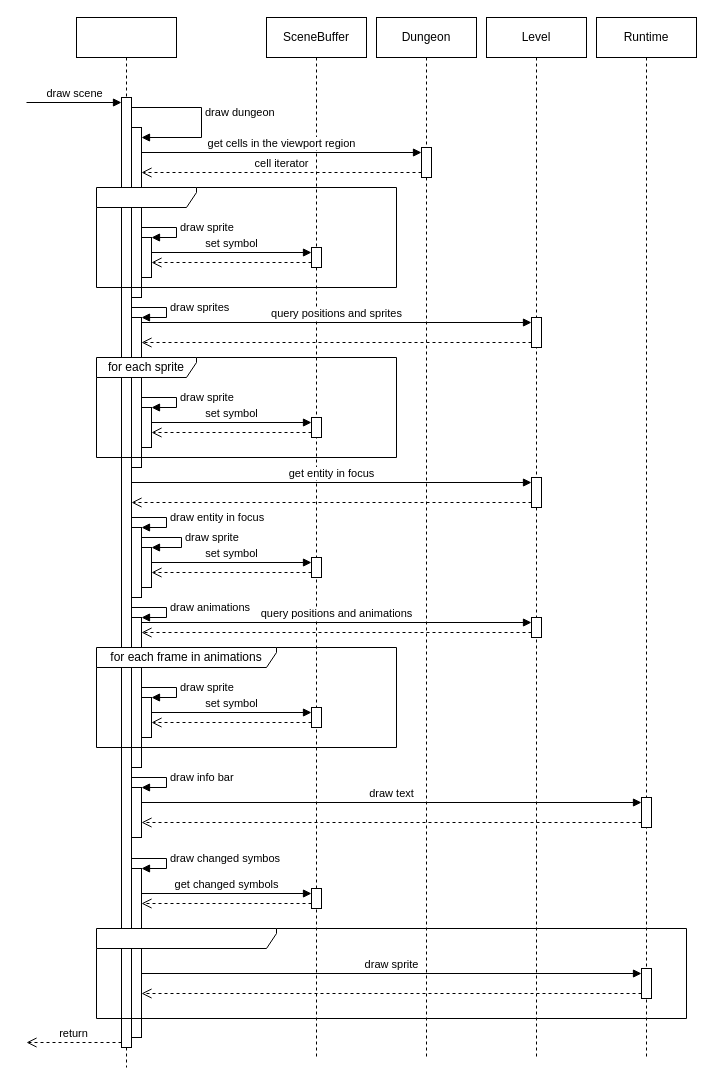
Image size: 714x1085. Some labels were removed from this diagram. The shapes that lost their labels are listed below. From the top down, each one's centre as x and y in pixels, then its label:
(246,237): for each cell
(126,542): Render
(391,973): for each changed symbol
